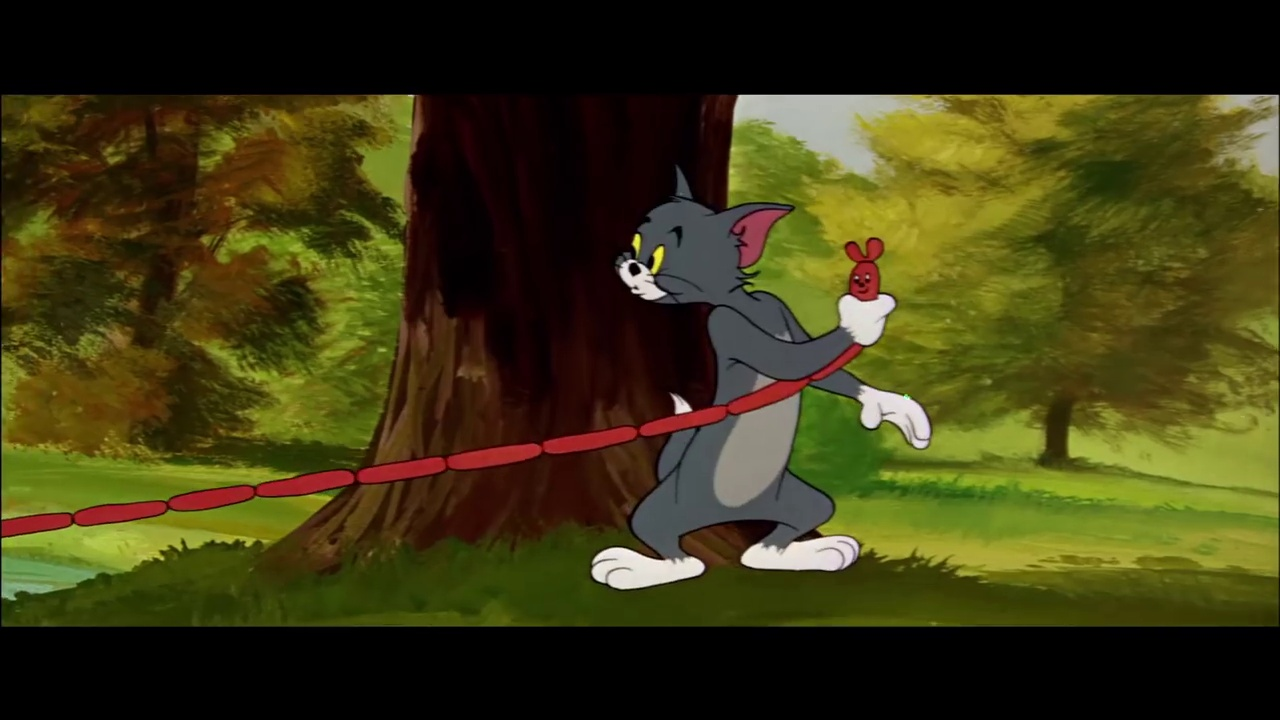tom: (614, 161, 794, 311)
